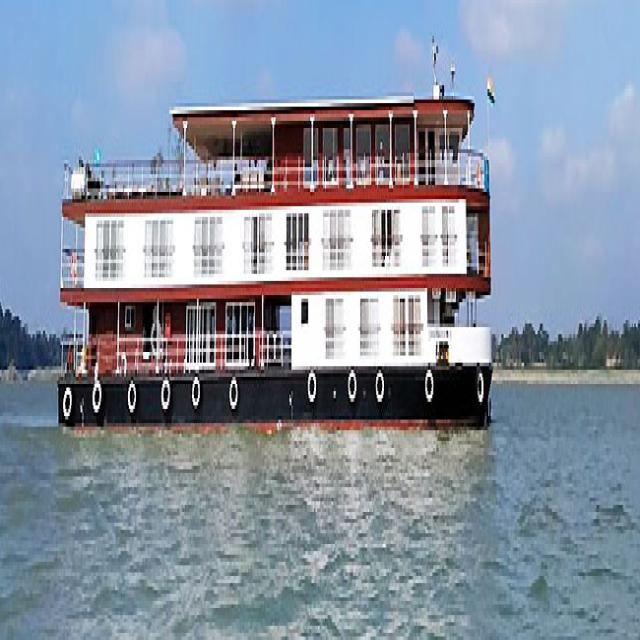passenger ship: (54, 31, 506, 477)
